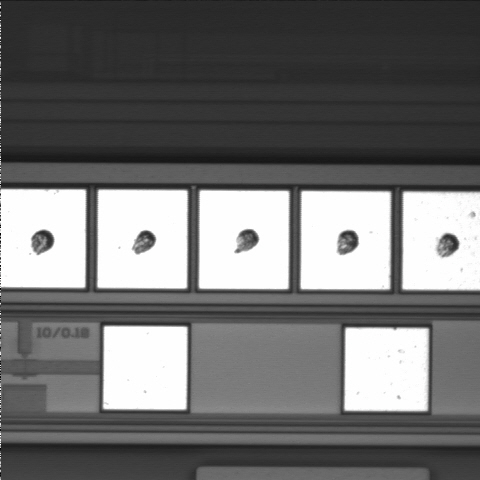pad: (199, 191, 289, 289), (98, 190, 187, 288), (301, 191, 390, 289), (103, 326, 187, 409), (345, 328, 428, 411)
